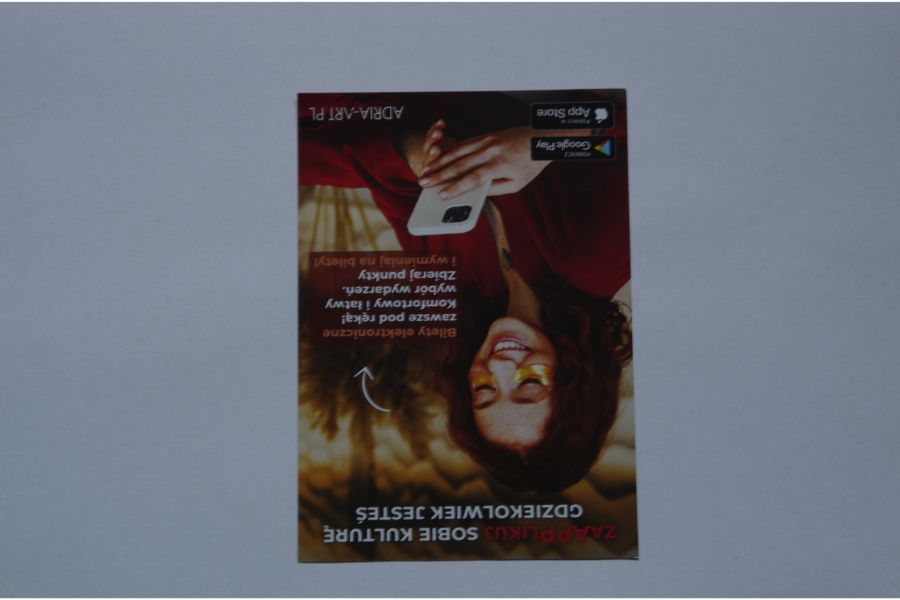album: (294, 88, 645, 566)
